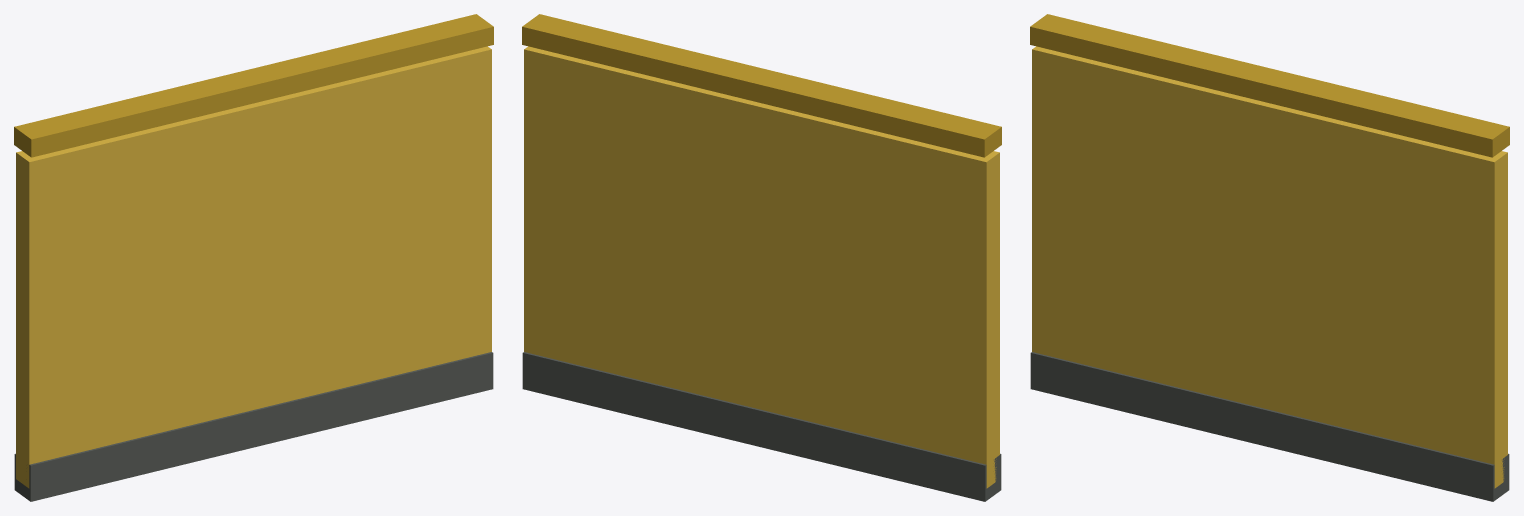
Rendered from CB_ENV_VN_Wall_YellowStucco_A.glb.
3 views of the same model, side by side, from view 1: azimuth 30°, elevation 25°; view 2: azimuth 150°, elevation 25°; view 3: azimuth 330°, elevation 25° (orthographic).
Parts seen in each view (by area): view 1: CB_ENV_VN_Wall_YellowStucco_A; view 2: CB_ENV_VN_Wall_YellowStucco_A; view 3: CB_ENV_VN_Wall_YellowStucco_A.
Part boxes in pixels (<box>): CB_ENV_VN_Wall_YellowStucco_A: <box>14,14,493,501</box>; CB_ENV_VN_Wall_YellowStucco_A: <box>522,14,1001,501</box>; CB_ENV_VN_Wall_YellowStucco_A: <box>1030,14,1509,501</box>.
Size of the model in its own units: 4 by 3 by 0.26.
